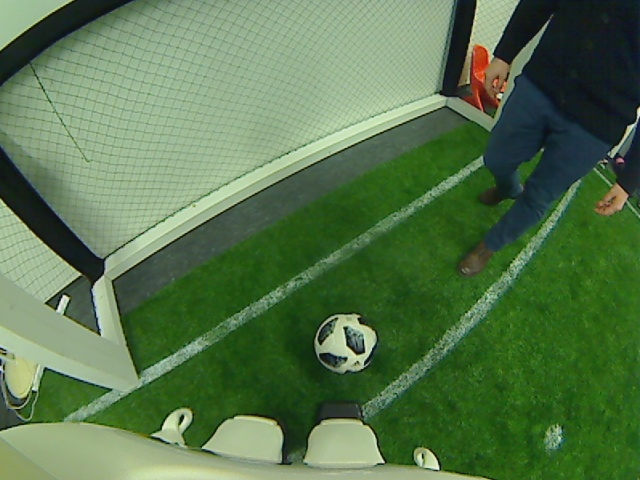ball: (313, 309, 376, 375)
